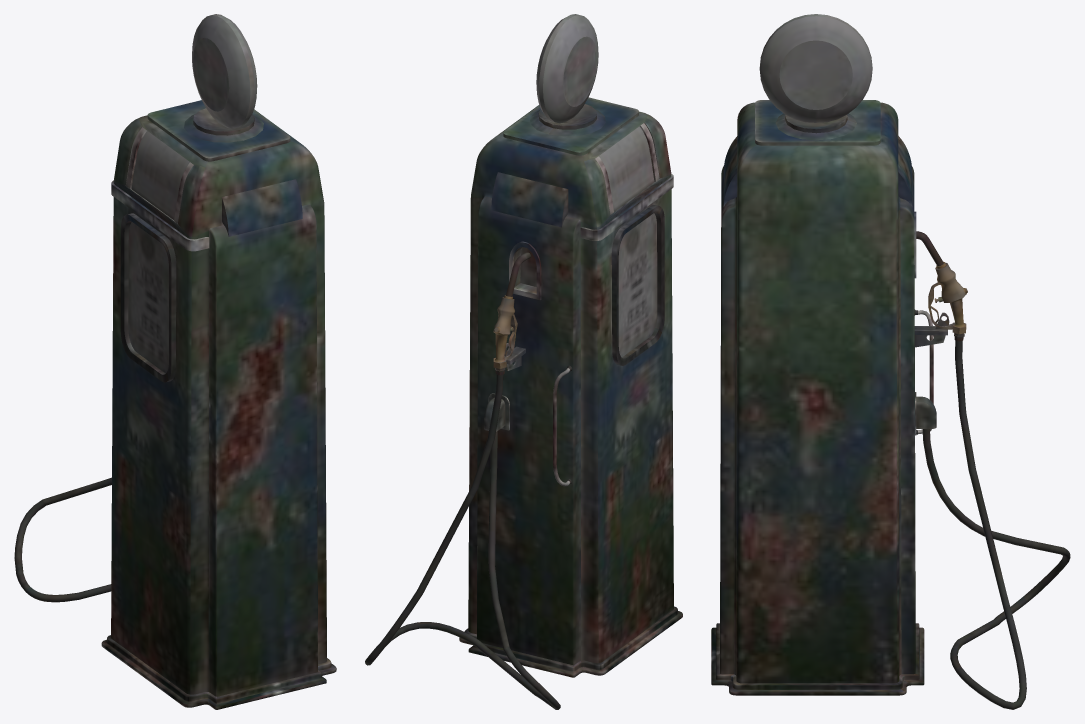
Rendered from gas_pump.glb.
The picture shows the model from 3 angles, left to right: view 1: azimuth 30°, elevation 25°; view 2: azimuth 150°, elevation 25°; view 3: azimuth 270°, elevation 25°; orthographic projection. The views are drawn at different scales.
Parts seen in each view (by area): view 1: detail.007_low, detail.017_low, detail.008_low, detail_low, detail.015_low, detail.006_low, detail.016_low, detail.009_low, detail.018_low; view 2: detail.007_low, detail.006_low, detail.017_low, detail.008_low, detail.015_low, detail_low, detail.016_low, detail.009_low, detail.001_low, detail.019_low, detail.018_low, detail.013_low (+1 smaller); view 3: detail.007_low, detail.017_low, detail.006_low, detail.015_low, detail.008_low, detail.016_low, detail.001_low, detail.012_low, detail.013_low.
Boxes of the visible parts, x1=… form: detail.007_low: x1=101, y1=109, x2=336, y2=709; detail.017_low: x1=192, y1=14, x2=257, y2=128; detail.008_low: x1=222, y1=179, x2=302, y2=236; detail_low: x1=120, y1=213, x2=176, y2=382; detail.015_low: x1=147, y1=100, x2=290, y2=161; detail.006_low: x1=14, y1=477, x2=111, y2=602; detail.016_low: x1=184, y1=108, x2=263, y2=142; detail.009_low: x1=111, y1=180, x2=209, y2=251; detail.018_low: x1=126, y1=127, x2=193, y2=223; detail.007_low: x1=459, y1=105, x2=682, y2=677; detail.006_low: x1=365, y1=375, x2=560, y2=709; detail.017_low: x1=536, y1=14, x2=598, y2=123; detail.008_low: x1=491, y1=172, x2=568, y2=227; detail.015_low: x1=503, y1=97, x2=638, y2=155; detail_low: x1=611, y1=205, x2=664, y2=365; detail.016_low: x1=530, y1=104, x2=605, y2=136; detail.009_low: x1=580, y1=174, x2=673, y2=240; detail.001_low: x1=493, y1=295, x2=514, y2=368; detail.019_low: x1=509, y1=241, x2=541, y2=300; detail.018_low: x1=595, y1=123, x2=659, y2=214; detail.013_low: x1=484, y1=393, x2=509, y2=431; detail.007_low: x1=711, y1=102, x2=924, y2=695; detail.017_low: x1=759, y1=14, x2=872, y2=122; detail.006_low: x1=922, y1=340, x2=1070, y2=709; detail.015_low: x1=755, y1=100, x2=880, y2=145; detail.008_low: x1=723, y1=136, x2=912, y2=206; detail.016_low: x1=775, y1=113, x2=856, y2=140; detail.001_low: x1=935, y1=261, x2=967, y2=334; detail.012_low: x1=914, y1=312, x2=949, y2=347; detail.013_low: x1=915, y1=392, x2=936, y2=435.
Bounding box in the file's own units: 2.51 × 7.23 × 3.65.
Materials: 1 (1 with a texture image).
